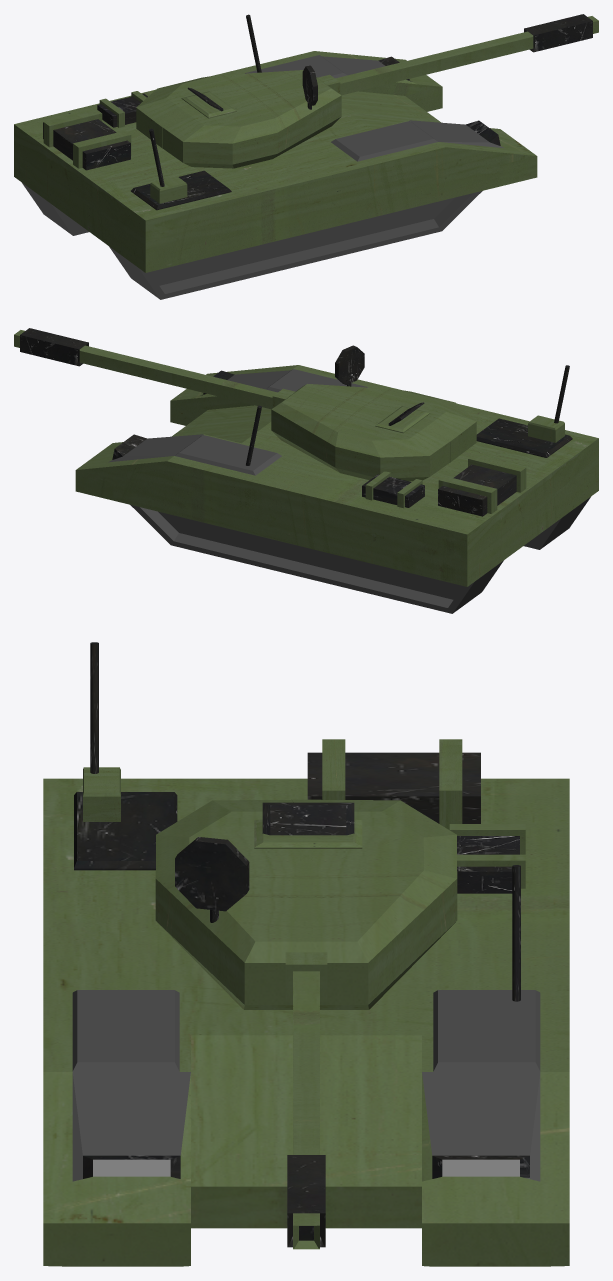
File: tank.fbx
The picture shows the model from 3 angles, top to bottom: view 1: azimuth 30°, elevation 25°; view 2: azimuth 150°, elevation 25°; view 3: azimuth 270°, elevation 25°; orthographic projection. The views are drawn at different scales.
Parts seen in each view (by area): view 1: Cube, Circle, Cube.004, Cube.007, Cube.005, Cube.006, Cube.008, Cube.001, Cube.009, Circle.001; view 2: Cube, Circle, Cube.004, Cube.007, Cube.001, Circle.001, Cube.005, Cube.006, Cube.008, Cube.009; view 3: Cube, Circle, Cube.004, Cube.007, Circle.001, Cube.010, Cube.001, Cube.005, Cube.008, Cube.009, Cube.006, Cylinder.001 (+3 smaller).
Part boxes in pixels (x1=…): Cube: x1=14, y1=51, x2=537, y2=299; Circle: x1=136, y1=14, x2=598, y2=168; Cube.004: x1=43, y1=119, x2=130, y2=170; Cube.007: x1=131, y1=170, x2=231, y2=210; Cube.005: x1=43, y1=109, x2=102, y2=147; Cube.006: x1=73, y1=130, x2=131, y2=168; Cube.008: x1=150, y1=176, x2=187, y2=203; Cube.001: x1=97, y1=93, x2=147, y2=127; Cube.009: x1=181, y1=91, x2=236, y2=118; Circle.001: x1=302, y1=65, x2=317, y2=105; Cube: x1=75, y1=365, x2=598, y2=613; Circle: x1=14, y1=328, x2=476, y2=481; Cube.004: x1=438, y1=464, x2=516, y2=516; Cube.007: x1=476, y1=418, x2=572, y2=457; Cube.001: x1=362, y1=474, x2=424, y2=507; Circle.001: x1=335, y1=345, x2=364, y2=384; Cube.005: x1=438, y1=476, x2=497, y2=513; Cube.006: x1=468, y1=454, x2=526, y2=492; Cube.008: x1=528, y1=415, x2=564, y2=442; Cube.009: x1=375, y1=406, x2=430, y2=433; Cube: x1=43, y1=778, x2=569, y2=1266; Circle: x1=155, y1=799, x2=457, y2=1249; Cube.004: x1=307, y1=752, x2=480, y2=823; Cube.007: x1=74, y1=792, x2=177, y2=870; Circle.001: x1=175, y1=837, x2=249, y2=911; Cube.010: x1=262, y1=802, x2=354, y2=835; Cube.001: x1=457, y1=836, x2=519, y2=893; Cube.005: x1=439, y1=739, x2=462, y2=829; Cube.008: x1=83, y1=767, x2=120, y2=821; Cube.009: x1=254, y1=819, x2=362, y2=848; Cube.006: x1=322, y1=739, x2=345, y2=799; Cylinder.001: x1=512, y1=865, x2=520, y2=1001.
Size of the model in its own units: 2056 by 638 by 909.
